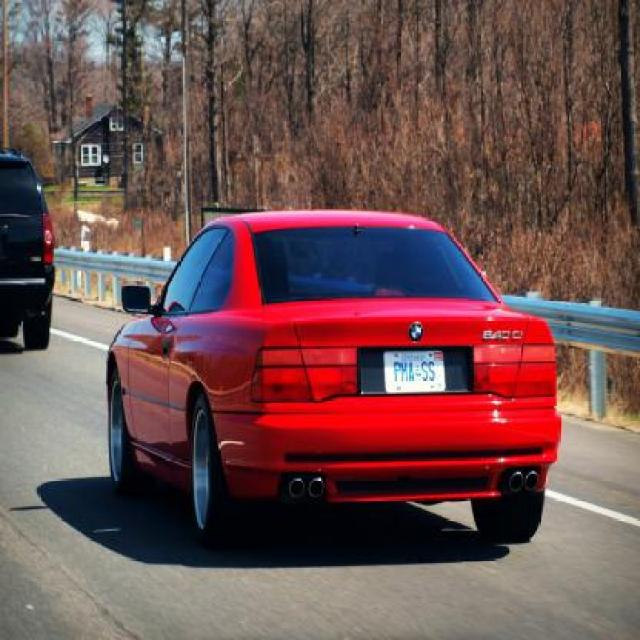truck: (107, 204, 561, 554), (0, 148, 54, 346)
